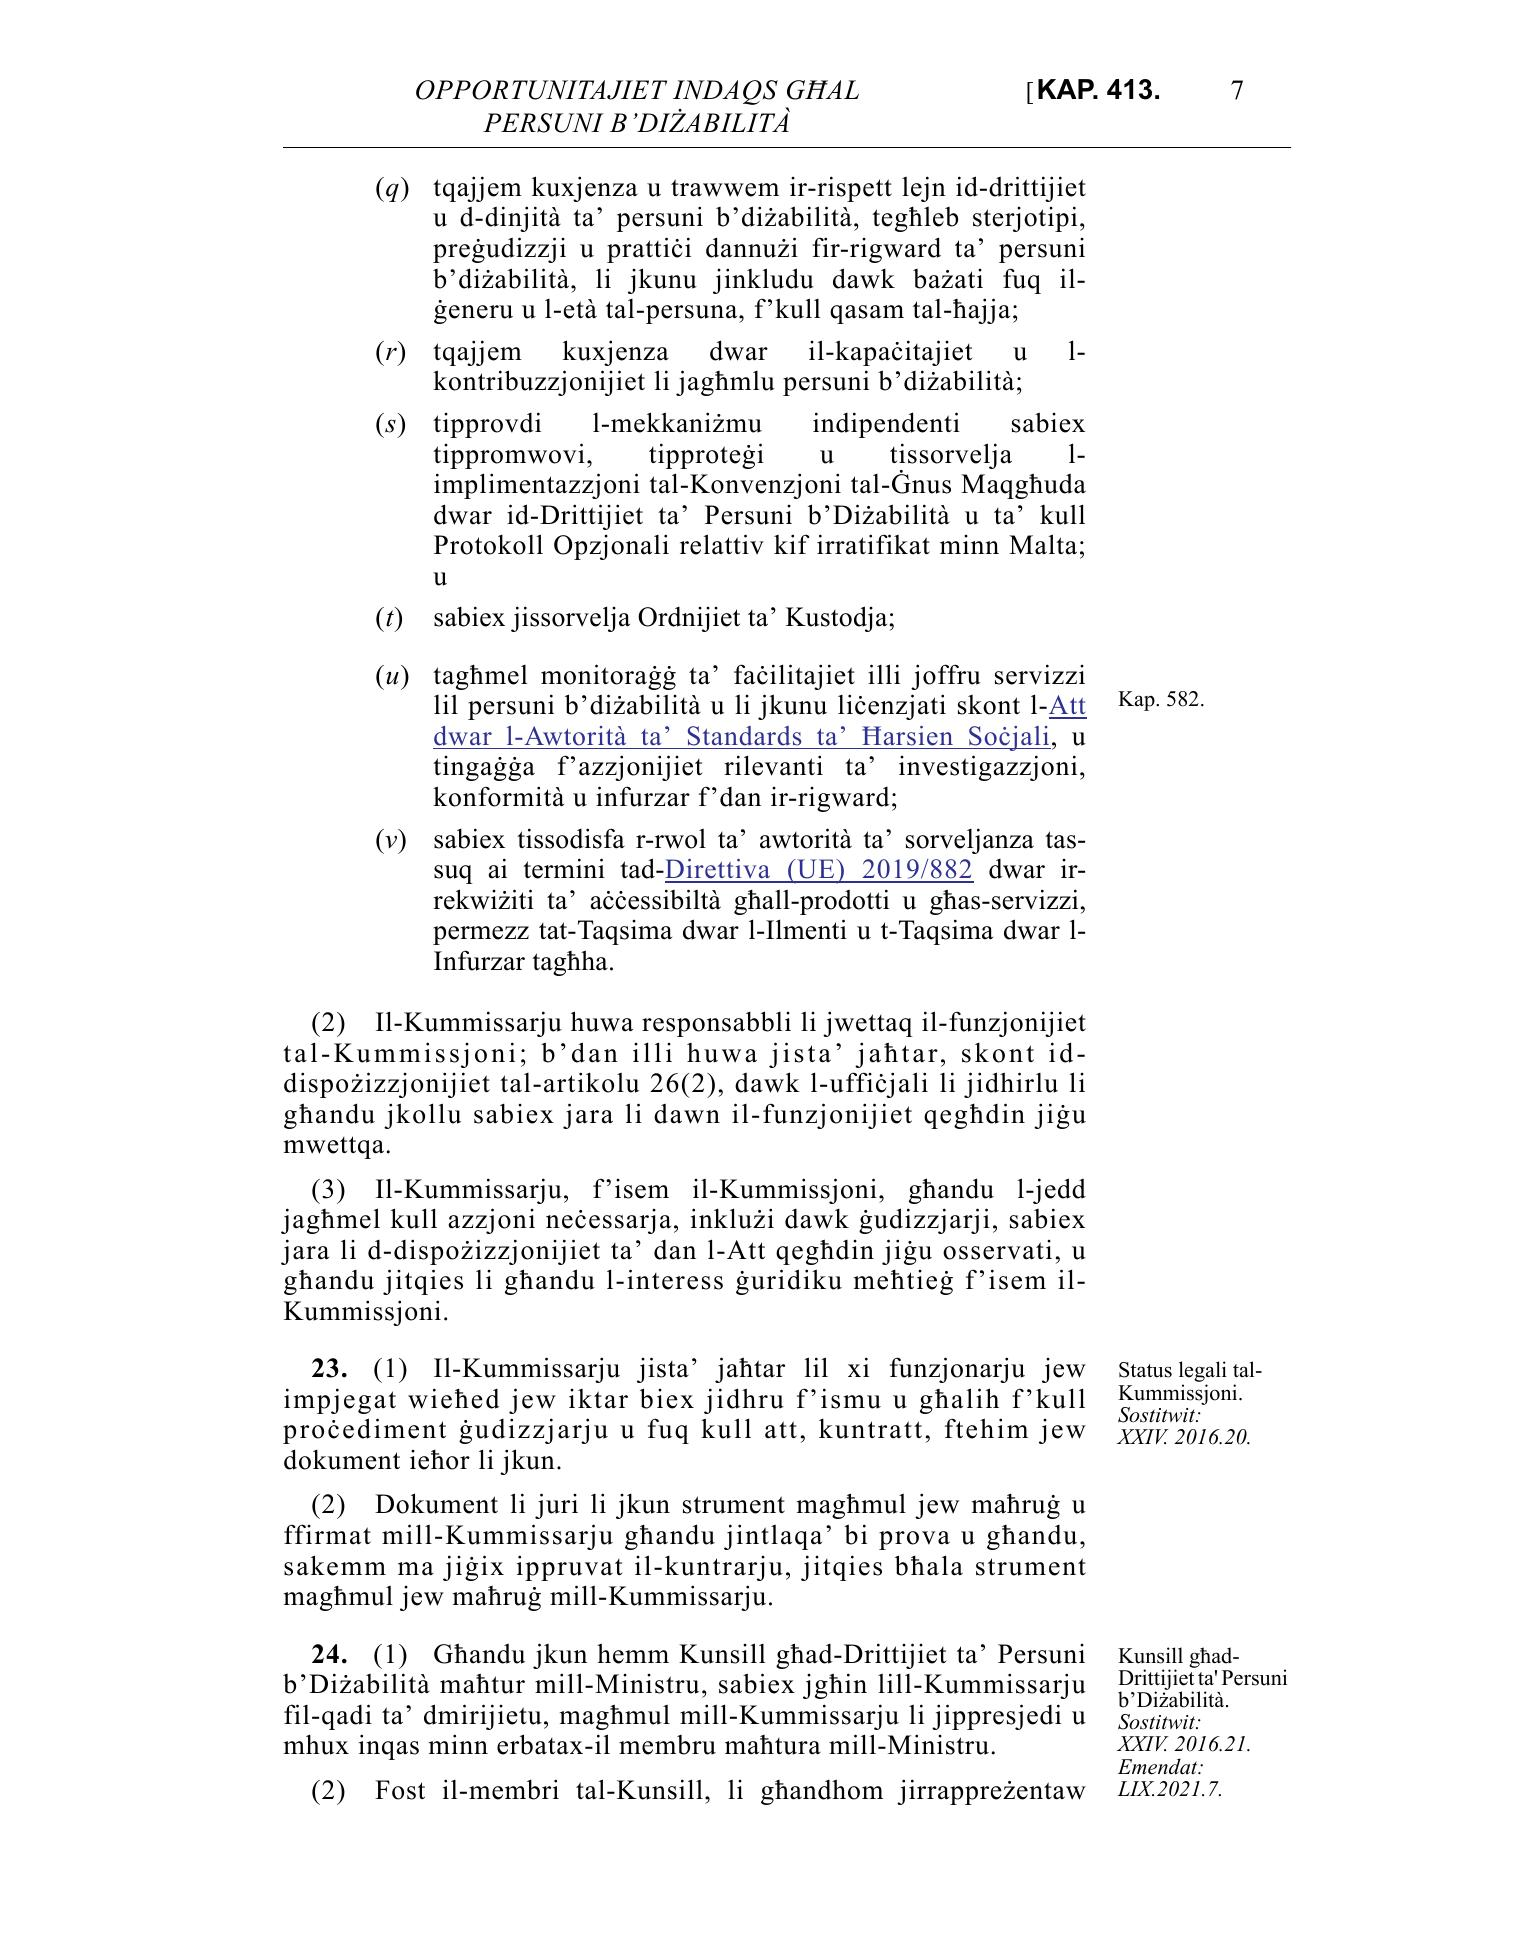text: (270, 162, 1102, 1833)
